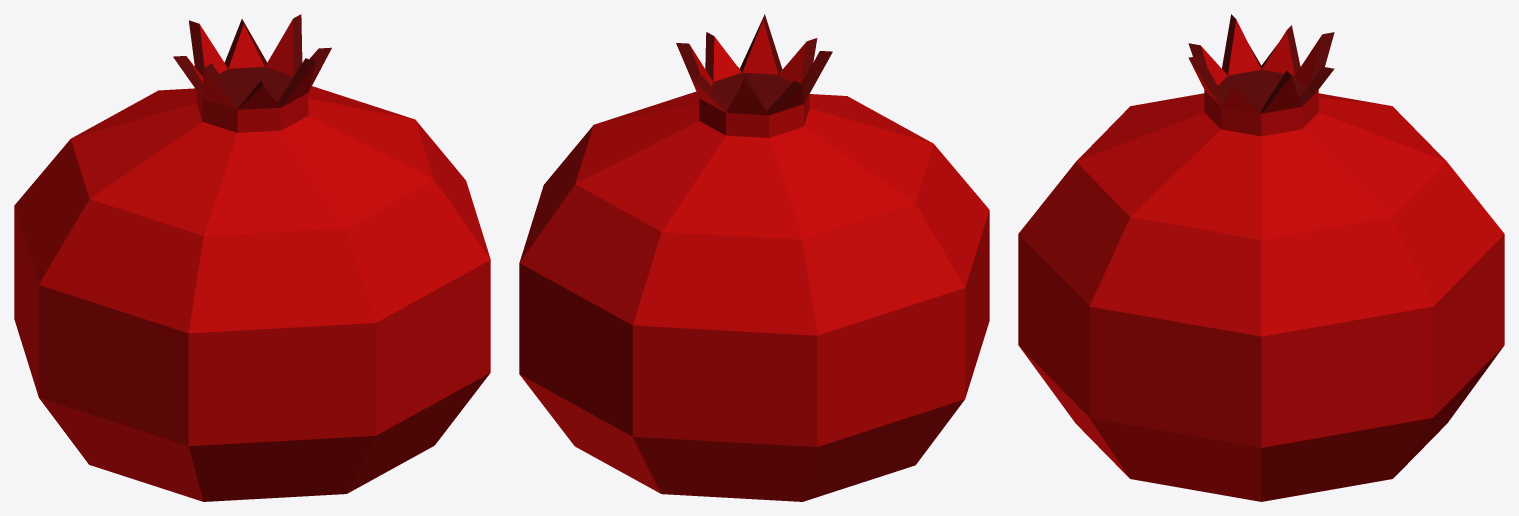
The model's file is pomegranate01.gltf.
3 views of the same model, side by side, from view 1: azimuth 30°, elevation 25°; view 2: azimuth 150°, elevation 25°; view 3: azimuth 270°, elevation 25° (orthographic).
Parts seen in each view (by area): view 1: Cylinder; view 2: Cylinder; view 3: Cylinder.
Part boxes in pixels (x1,y1,x2,y2): Cylinder: (14,14,490,501); Cylinder: (519,14,989,501); Cylinder: (1018,14,1504,501).
Bounding box in the file's own units: 0.109 × 0.1032 × 0.109.
1 material, 1 textured.
